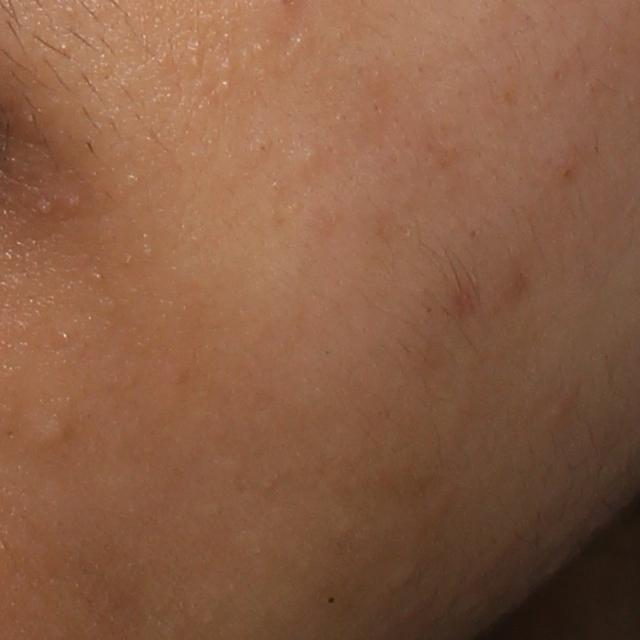comedo: (301, 144, 320, 167)
